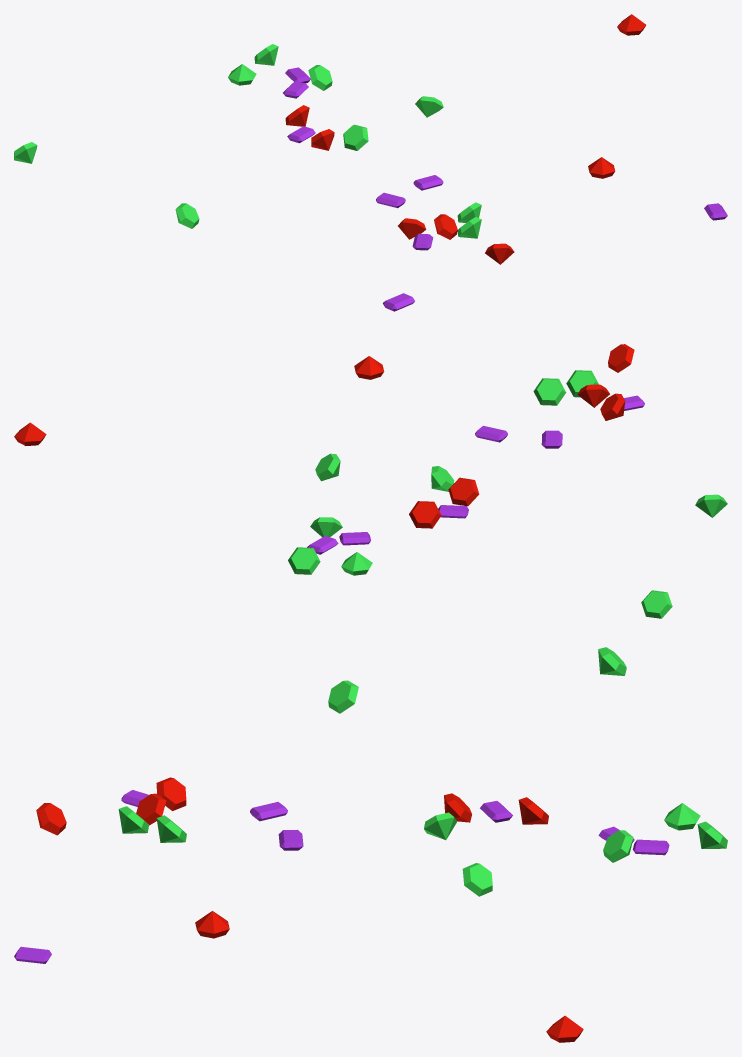
The model's file is diamanti sparsi b.fbx.
The picture shows the model from 3 angles, top to bottom: view 1: azimuth 30°, elevation 25°; view 2: azimuth 150°, elevation 25°; view 3: azimuth 270°, elevation 25°; orthographic projection. The views are drawn at different scales.
Parts seen in each view (by area): view 1: Saphire.005; view 2: Saphire.005; view 3: Saphire.005.
Boxes of the visible parts, <box> form: Saphire.005: <box>14,14,727,264</box>; Saphire.005: <box>14,293,727,618</box>; Saphire.005: <box>14,647,727,1042</box>.
Bounding box in the file's own units: 363 × 10.51 × 289.
